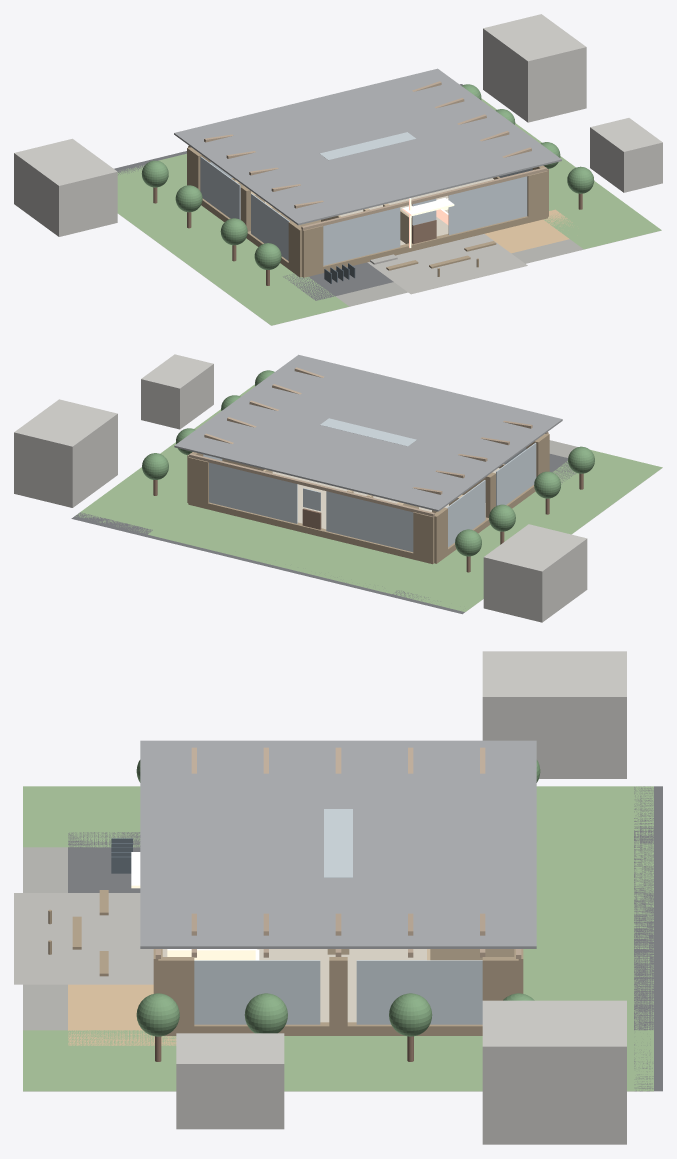
The picture shows the model from 3 angles, top to bottom: view 1: azimuth 30°, elevation 25°; view 2: azimuth 150°, elevation 25°; view 3: azimuth 270°, elevation 25°; orthographic projection. The views are drawn at different scales.
Parts seen in each view (by area): view 1: Slab_Roof_Metal, Site_GrassWest, Site_NeighborNE, Site_NeighborNW, Site_GrassEast, Site_NeighborE, Site_Plaza, Window_S_E, Window_S_W, Site_Ground, Site_BikePad, Site_KidsPlay (+20 smaller); view 2: Slab_Roof_Metal, Site_GrassNorth, Site_GrassWest, Site_NeighborNE, Site_NeighborNW, Site_GrassEast, Site_NeighborE, Window_N_E, Window_N_W, BrickBase_N, Site_Road, Window_W_S (+16 smaller); view 3: Slab_Roof_Metal, Site_GrassEast, Site_NeighborNE, Site_GrassNorth, Site_NeighborNW, Site_GrassWest, Site_NeighborE, Site_Plaza, Site_Road, Window_E_S, Window_E_N, Site_KidsPlay (+14 smaller).
Part boxes in pixels (bbox=[...]): Slab_Roof_Metal: bbox=[174, 68, 561, 225]; Site_GrassWest: bbox=[117, 164, 348, 325]; Site_NeighborNE: bbox=[483, 14, 586, 122]; Site_NeighborNW: bbox=[14, 138, 117, 236]; Site_GrassEast: bbox=[481, 98, 661, 249]; Site_NeighborE: bbox=[590, 118, 662, 192]; Site_Plaza: bbox=[367, 234, 527, 294]; Window_S_E: bbox=[448, 176, 527, 234]; Window_S_W: bbox=[323, 207, 400, 265]; Site_Ground: bbox=[120, 215, 660, 325]; Site_BikePad: bbox=[283, 262, 393, 300]; Site_KidsPlay: bbox=[484, 209, 572, 253]; Slab_Roof_Metal: bbox=[174, 354, 562, 511]; Site_GrassNorth: bbox=[148, 504, 432, 594]; Site_GrassWest: bbox=[387, 449, 662, 611]; Site_NeighborNE: bbox=[14, 399, 117, 507]; Site_NeighborNW: bbox=[483, 524, 587, 622]; Site_GrassEast: bbox=[75, 384, 254, 533]; Site_NeighborE: bbox=[141, 354, 213, 429]; Window_N_E: bbox=[209, 462, 297, 523]; Window_N_W: bbox=[326, 491, 413, 551]; BrickBase_N: bbox=[188, 499, 434, 564]; Site_Road: bbox=[71, 512, 464, 614]; Window_W_S: bbox=[496, 442, 536, 505]; Slab_Roof_Metal: bbox=[140, 740, 536, 948]; Site_GrassEast: bbox=[23, 1030, 653, 1091]; Site_NeighborNE: bbox=[482, 1000, 626, 1144]; Site_GrassNorth: bbox=[523, 843, 653, 1030]; Site_NeighborNW: bbox=[482, 651, 626, 778]; Site_GrassWest: bbox=[23, 786, 653, 847]; Site_NeighborE: bbox=[176, 1033, 284, 1129]; Site_Plaza: bbox=[14, 893, 153, 984]; Site_Road: bbox=[634, 786, 662, 1091]; Window_E_S: bbox=[194, 960, 320, 1024]; Window_E_N: bbox=[356, 960, 482, 1024]; Site_KidsPlay: bbox=[68, 984, 176, 1045].
Bounding box in the file's own units: 54 × 6.1 × 36.
